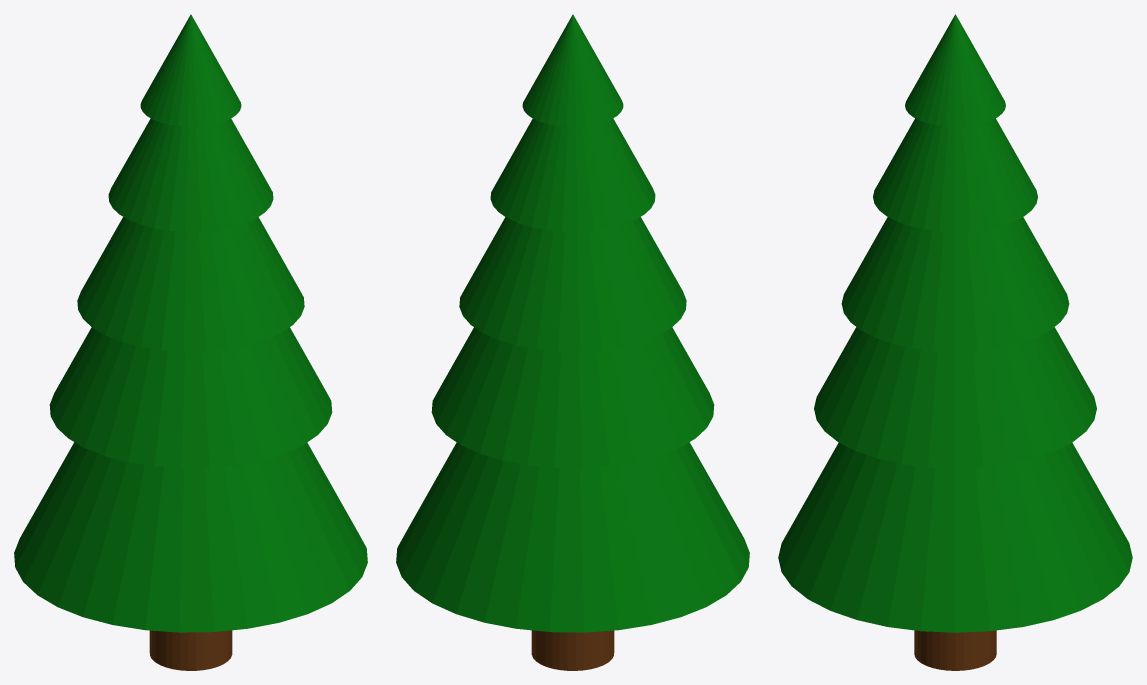
File: TREEEEEEEE.fbx
The picture shows the model from 3 angles, left to right: view 1: azimuth 30°, elevation 25°; view 2: azimuth 150°, elevation 25°; view 3: azimuth 270°, elevation 25°; orthographic projection.
Parts seen in each view (by area): view 1: Cone, Cone.001, Cone.002, Cone.003, Cone.004, Cylinder; view 2: Cone, Cone.001, Cone.002, Cone.003, Cone.004, Cylinder; view 3: Cone, Cone.001, Cone.002, Cone.003, Cone.004, Cylinder.
Boxes of the visible parts, <box> form: Cone: <box>14,442,367,632</box>; Cone.001: <box>49,327,332,468</box>; Cone.002: <box>77,217,304,351</box>; Cone.003: <box>108,118,273,231</box>; Cone.004: <box>140,14,241,126</box>; Cylinder: <box>149,630,232,670</box>; Cone: <box>396,442,749,632</box>; Cone.001: <box>431,327,714,468</box>; Cone.002: <box>459,217,686,351</box>; Cone.003: <box>490,118,655,231</box>; Cone.004: <box>522,14,623,126</box>; Cylinder: <box>531,630,614,670</box>; Cone: <box>778,442,1132,632</box>; Cone.001: <box>814,327,1096,468</box>; Cone.002: <box>841,217,1069,351</box>; Cone.003: <box>873,118,1037,231</box>; Cone.004: <box>905,14,1005,126</box>; Cylinder: <box>914,630,996,670</box>.
Bounding box in the file's own units: 429 × 854 × 429.
